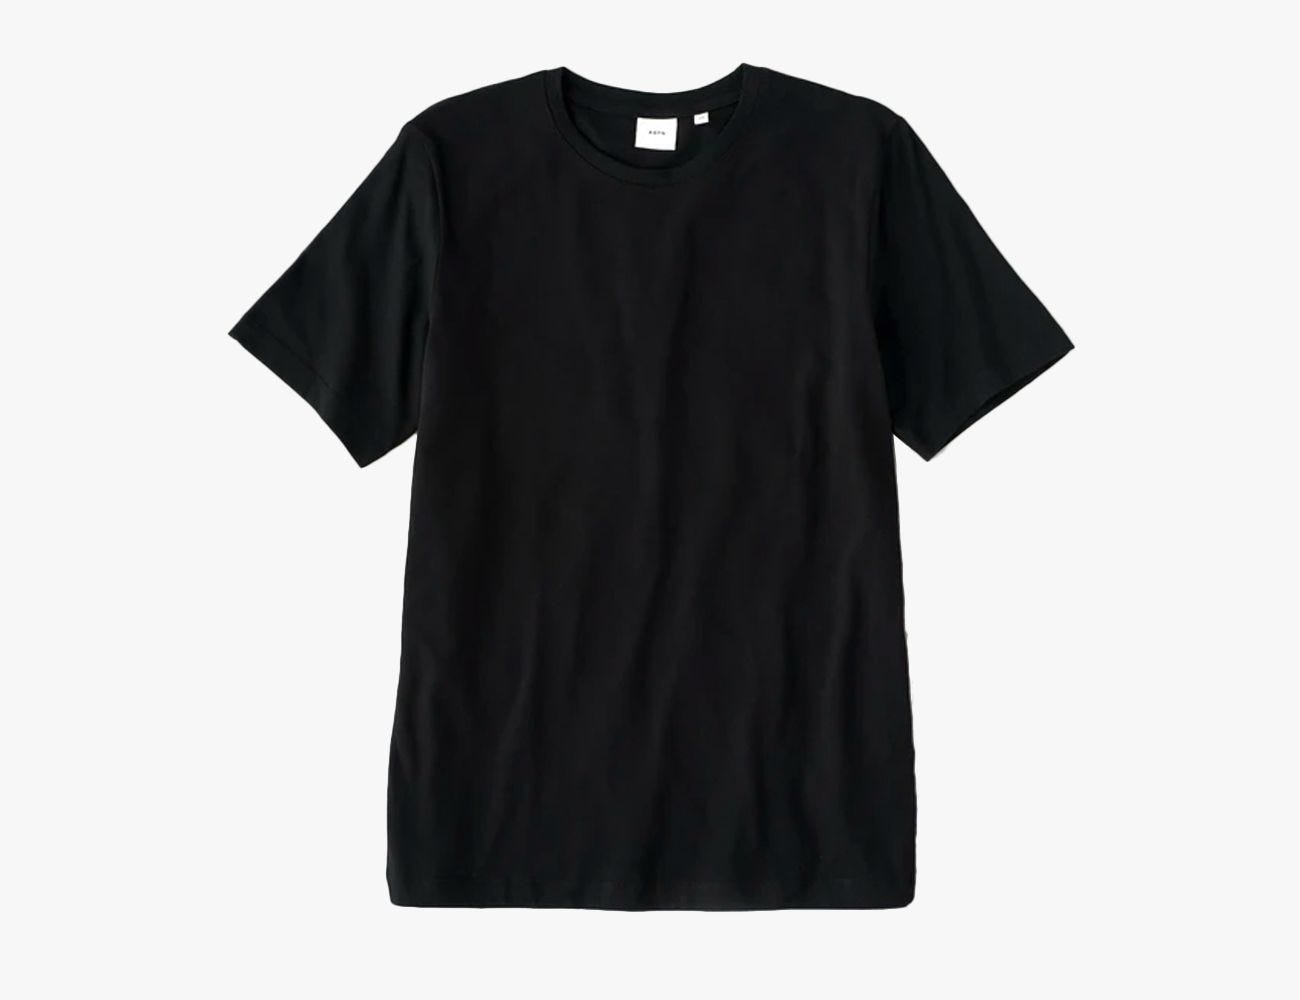round-necked tshirt: (230, 75, 1073, 907)
